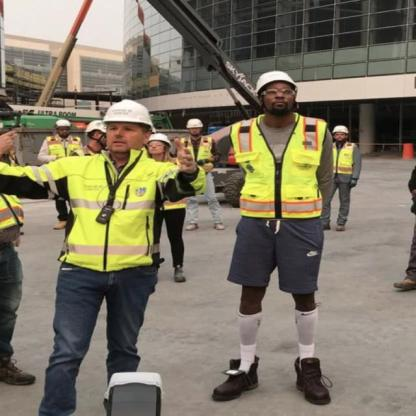glass: (257, 87, 296, 98)
person: (210, 62, 348, 414), (33, 97, 174, 415), (173, 114, 223, 239), (320, 115, 366, 231), (33, 111, 89, 157), (144, 131, 176, 165)
vest-helm: (40, 154, 176, 271), (214, 111, 336, 222), (180, 132, 216, 168), (332, 140, 358, 180), (42, 133, 82, 159)
white-helm: (93, 97, 156, 129), (249, 66, 302, 94), (183, 116, 207, 132), (144, 133, 173, 146), (51, 116, 72, 130), (330, 123, 349, 133)
